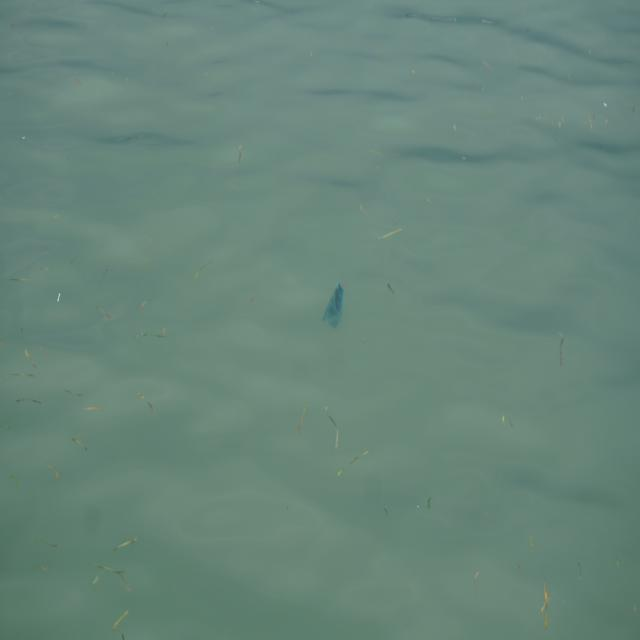Kantong Plastik: (323, 279, 350, 331)
